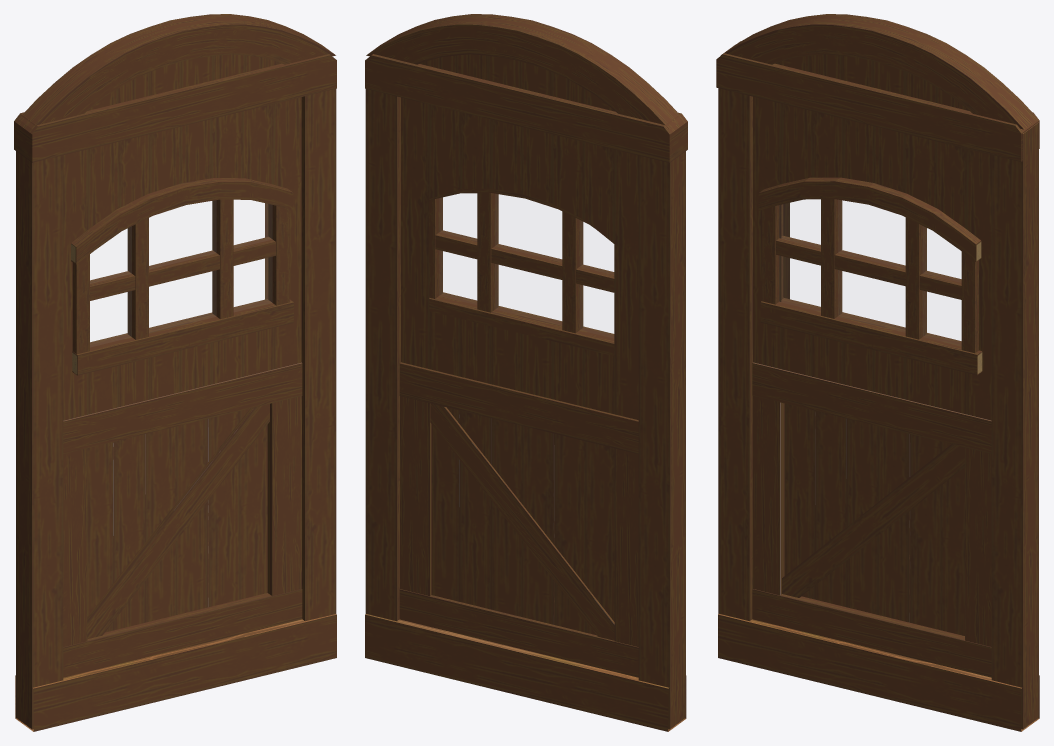
The model's file is door_1_round.glb.
3 views of the same model, side by side, from view 1: azimuth 30°, elevation 25°; view 2: azimuth 150°, elevation 25°; view 3: azimuth 330°, elevation 25° (orthographic).
Visible parts, largest first — view 1: Door_1_Round; view 2: Door_1_Round; view 3: Door_1_Round.
Part boxes in pixels (box(x1,y1,x2,y2)): Door_1_Round: box(14, 14, 336, 731); Door_1_Round: box(365, 14, 687, 731); Door_1_Round: box(716, 14, 1039, 731).
Size of the model in its own units: 1.12 by 2.32 by 0.1207.
2 materials, 1 textured.
